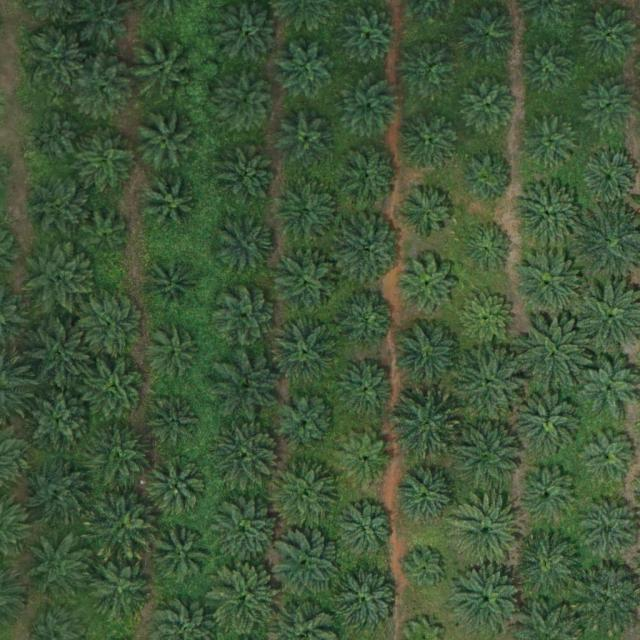Healthy: (25, 244, 96, 315), (334, 215, 405, 286), (452, 567, 523, 638), (336, 70, 406, 141), (272, 248, 342, 319), (269, 459, 339, 530), (395, 321, 465, 392), (390, 391, 460, 462), (394, 459, 464, 530), (456, 349, 526, 420), (454, 419, 524, 490), (451, 498, 522, 568), (514, 251, 584, 322), (519, 317, 589, 388), (515, 461, 585, 532), (513, 531, 583, 602), (24, 535, 94, 606), (25, 19, 95, 89), (26, 322, 96, 392), (24, 458, 94, 528), (89, 428, 159, 498), (213, 348, 283, 418), (213, 424, 283, 494), (210, 498, 280, 568), (271, 315, 341, 385), (513, 179, 583, 249), (516, 388, 586, 458), (333, 567, 403, 637), (271, 530, 341, 600), (209, 563, 279, 633), (87, 493, 157, 563), (399, 109, 462, 172), (135, 40, 198, 103), (74, 127, 137, 190), (30, 103, 93, 166), (30, 179, 93, 242), (85, 296, 148, 359), (84, 356, 147, 419), (219, 212, 282, 275), (214, 283, 277, 346), (577, 356, 640, 419), (458, 3, 520, 66), (399, 39, 461, 102), (337, 8, 399, 71), (276, 39, 338, 102), (30, 393, 92, 456), (142, 258, 204, 321), (146, 456, 208, 519), (275, 390, 337, 453), (335, 289, 398, 351), (335, 360, 398, 422), (150, 524, 212, 587), (89, 561, 152, 623), (216, 69, 278, 131), (216, 145, 278, 207), (138, 112, 200, 174), (73, 58, 135, 120), (277, 180, 339, 242), (396, 255, 458, 317), (524, 115, 579, 171), (581, 79, 636, 134), (584, 152, 639, 207), (520, 43, 575, 98), (279, 114, 334, 169), (338, 433, 393, 488), (339, 505, 394, 560), (401, 187, 456, 242), (460, 151, 515, 206), (460, 292, 515, 347), (148, 395, 202, 451), (462, 78, 516, 133), (342, 149, 396, 204), (150, 325, 204, 380), (583, 431, 637, 486)
Small: (462, 221, 517, 276), (151, 183, 198, 230), (85, 211, 132, 258), (408, 550, 447, 590)
